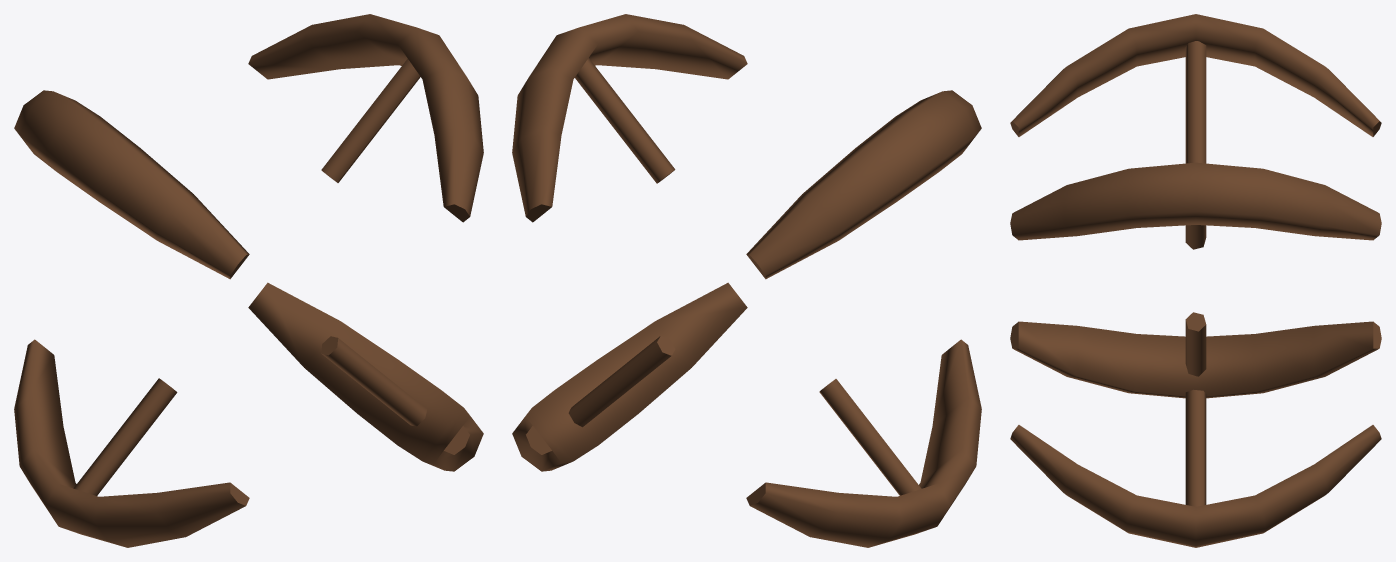
Rendered from k5_dampers.obj.
3 views of the same model, side by side, from view 1: azimuth 30°, elevation 25°; view 2: azimuth 150°, elevation 25°; view 3: azimuth 270°, elevation 25° (orthographic). The views are drawn at different scales.
Parts seen in each view (by area): view 1: k5_dampers; view 2: k5_dampers; view 3: k5_dampers.
Part boxes in pixels (x1,y1,x2,y2): k5_dampers: [14, 14, 483, 547]; k5_dampers: [512, 14, 981, 547]; k5_dampers: [1010, 14, 1381, 547].
Size of the model in its own units: 2.51 by 2.51 by 2.19.
